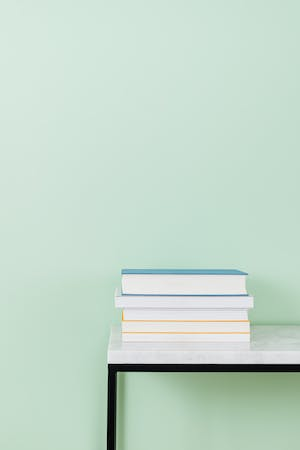book: (114, 269, 251, 295), (111, 293, 256, 310), (119, 317, 253, 335), (120, 330, 253, 345), (121, 307, 250, 321)
